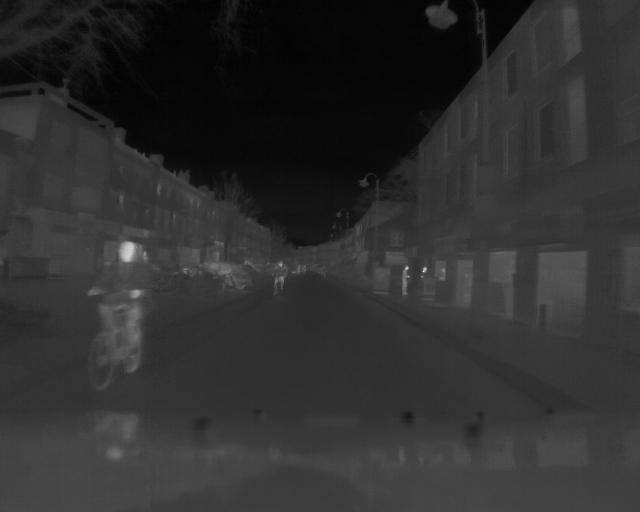person: (89, 238, 146, 371), (274, 259, 287, 298), (401, 263, 411, 299)
